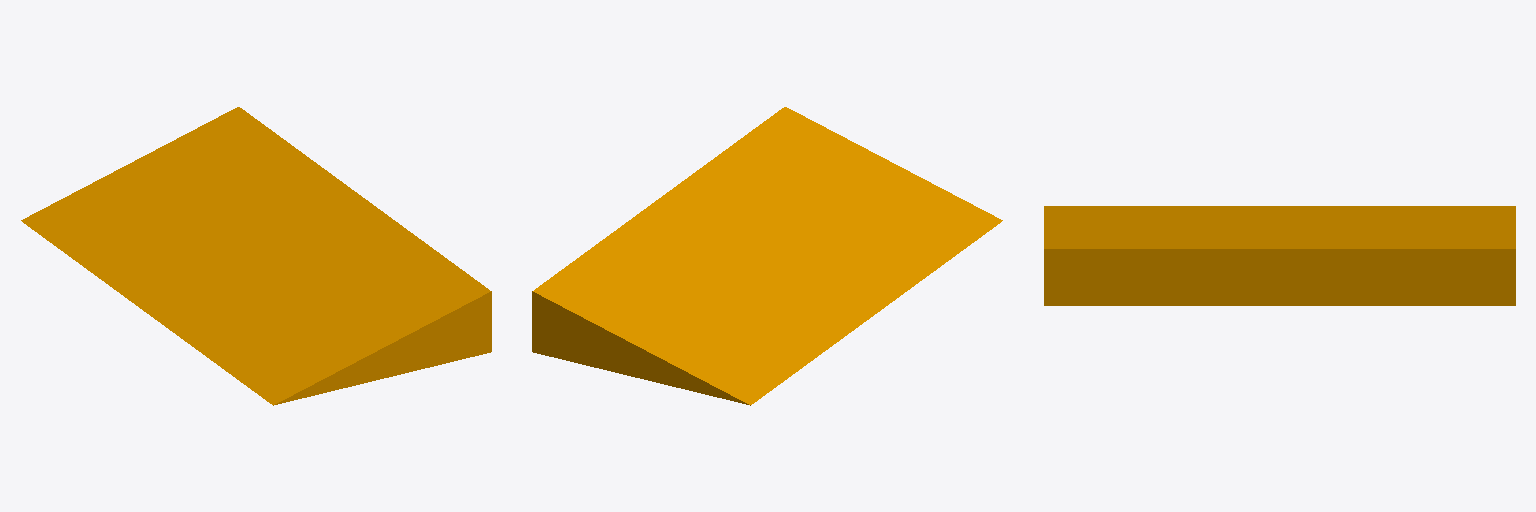
URDF robot description (wedge_15):
<?xml version="1.0" ?>
<robot name="wedge_15">
  <link name="wedge_15__link_4">
    <inertial>
      <mass value="1"/>
      <origin rpy="0      0     -1.5708" xyz="0 0 0"/>
      <inertia ixx="0.166667" ixy="0" ixz="0" iyy="0.166667" iyz="0" izz="0.166667"/>
    </inertial>
    <collision name="wedge_15__collision">
      <origin rpy="0      0     -1.5708" xyz="0 0 0"/>
      <geometry>
        <mesh filename="package://wedge_15/wedge_15.stl" scale="1 1 1"/>
      </geometry>
    </collision>
    <visual name="wedge_15__visual">
      <origin rpy="0      0     -1.5708" xyz="0 0 0"/>
      <geometry>
        <mesh filename="package://wedge_15/wedge_15.stl" scale="1 1 1"/>
      </geometry>
    </visual>
  </link>
</robot>

--- Render facts (derived) ---
The picture shows the robot from 3 angles, left to right: view 1: azimuth 30°, elevation 25°; view 2: azimuth 150°, elevation 25°; view 3: azimuth 270°, elevation 25°; orthographic projection.
Model wedge_15 with 1 links and 0 joints (none), rooted at wedge_15__link_4, posed every joint at zero.
Links seen in each view (by area): view 1: wedge_15__link_4; view 2: wedge_15__link_4; view 3: wedge_15__link_4.
Link boxes in pixels (bbox=[...]): wedge_15__link_4: bbox=[21, 107, 491, 405]; wedge_15__link_4: bbox=[532, 107, 1002, 405]; wedge_15__link_4: bbox=[1044, 206, 1515, 305].
Size in the robot's own frame: 1.5 by 3.01 by 0.401 metres.
1 mesh visuals loaded from 1 distinct referenced files (1 binary STL).